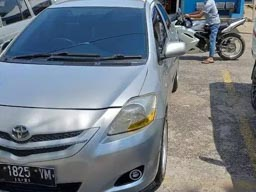plat: (1, 165, 54, 179)
